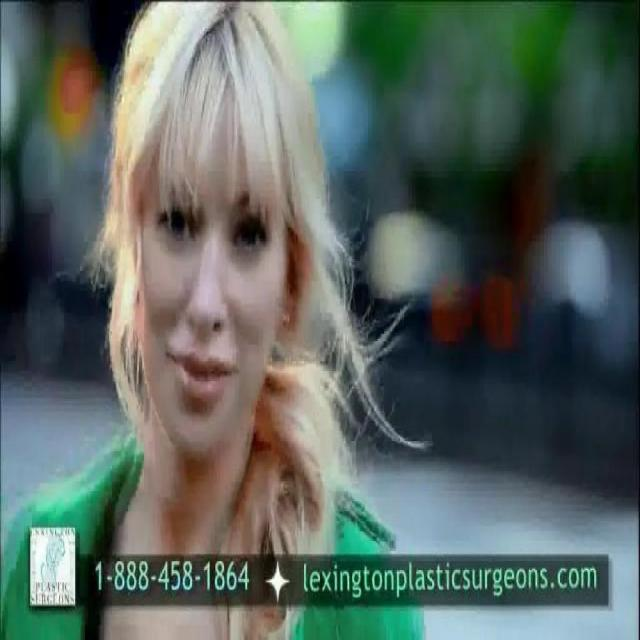nomask: (139, 78, 285, 466)
